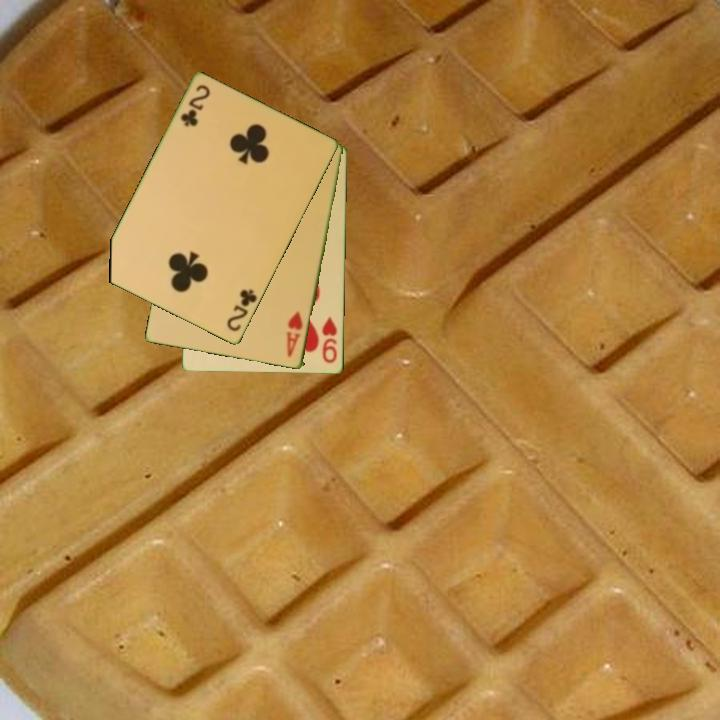2c: (223, 286, 260, 335), (177, 81, 213, 130)
9h: (319, 313, 340, 366)
Ah: (283, 308, 306, 360)
